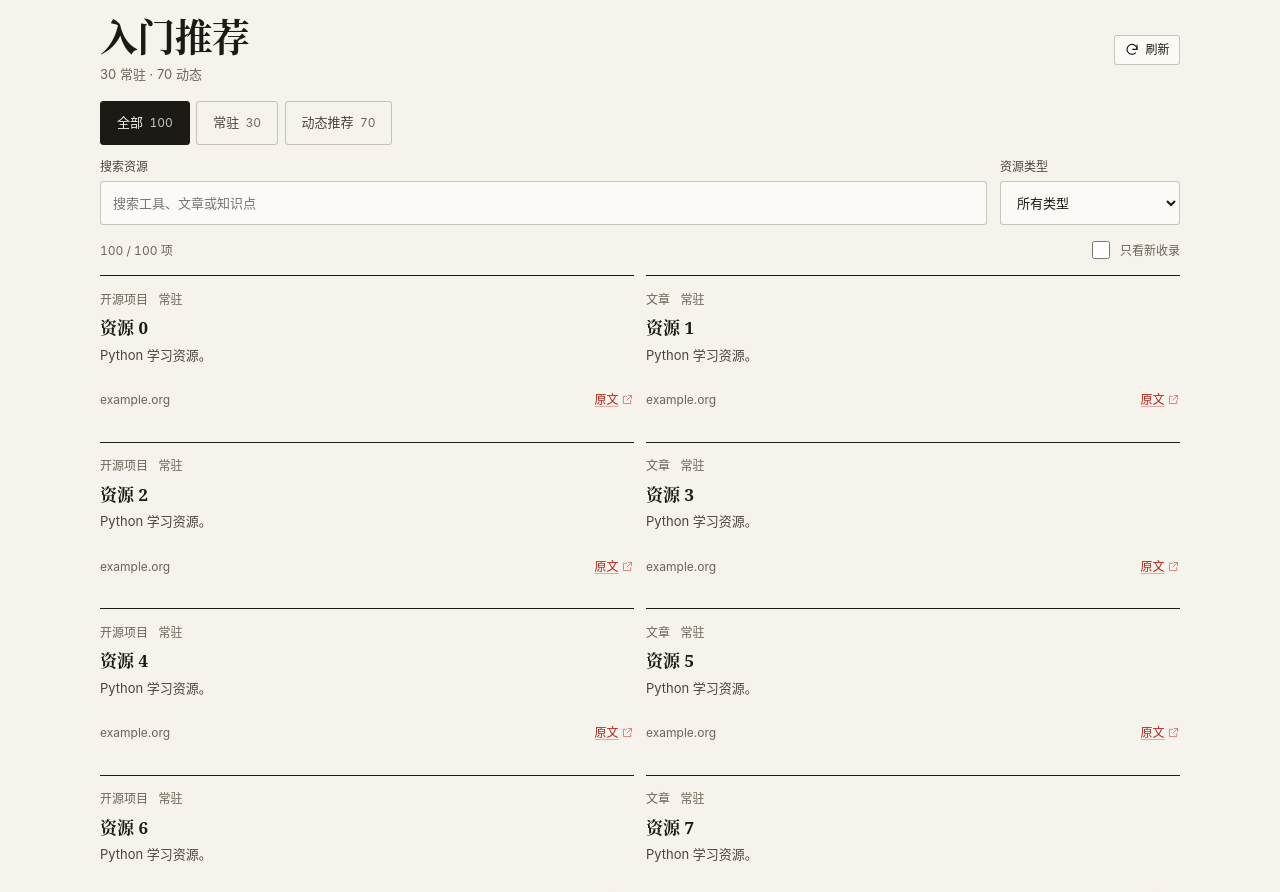
shares combined scope, type and search filters while preserving actual catalogue counts
Expected: the text with class "learn__counts" reads "30 常驻 · 70 动态", [100,66,202,82]
Click the button "动态推荐 70" at [338, 123], box [284,101,392,145]
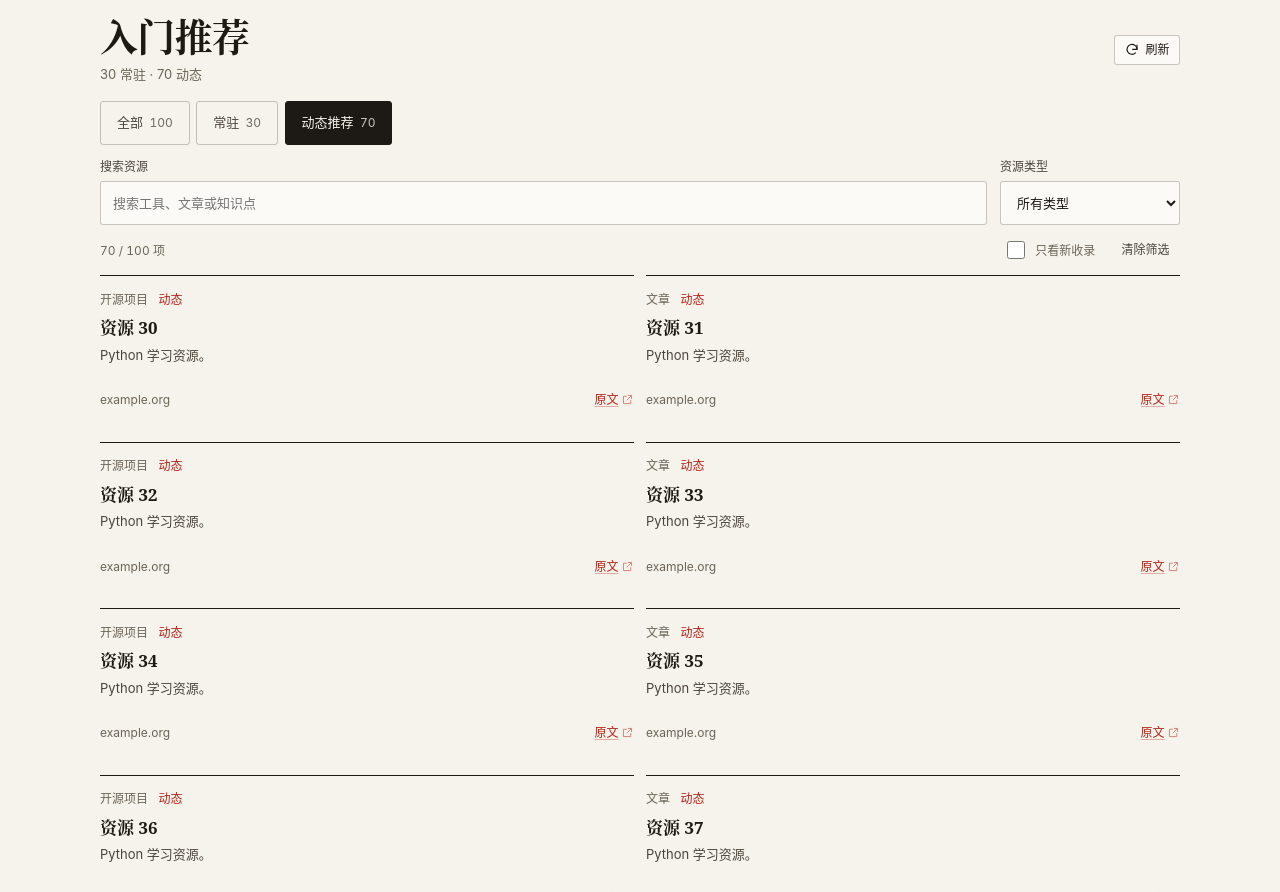
Expected: the number of list items with class "learn-card" is 70
Select "开源项目" in the dropdown labelled "资源类型" at [1090, 204], box [1000,182,1180,226]
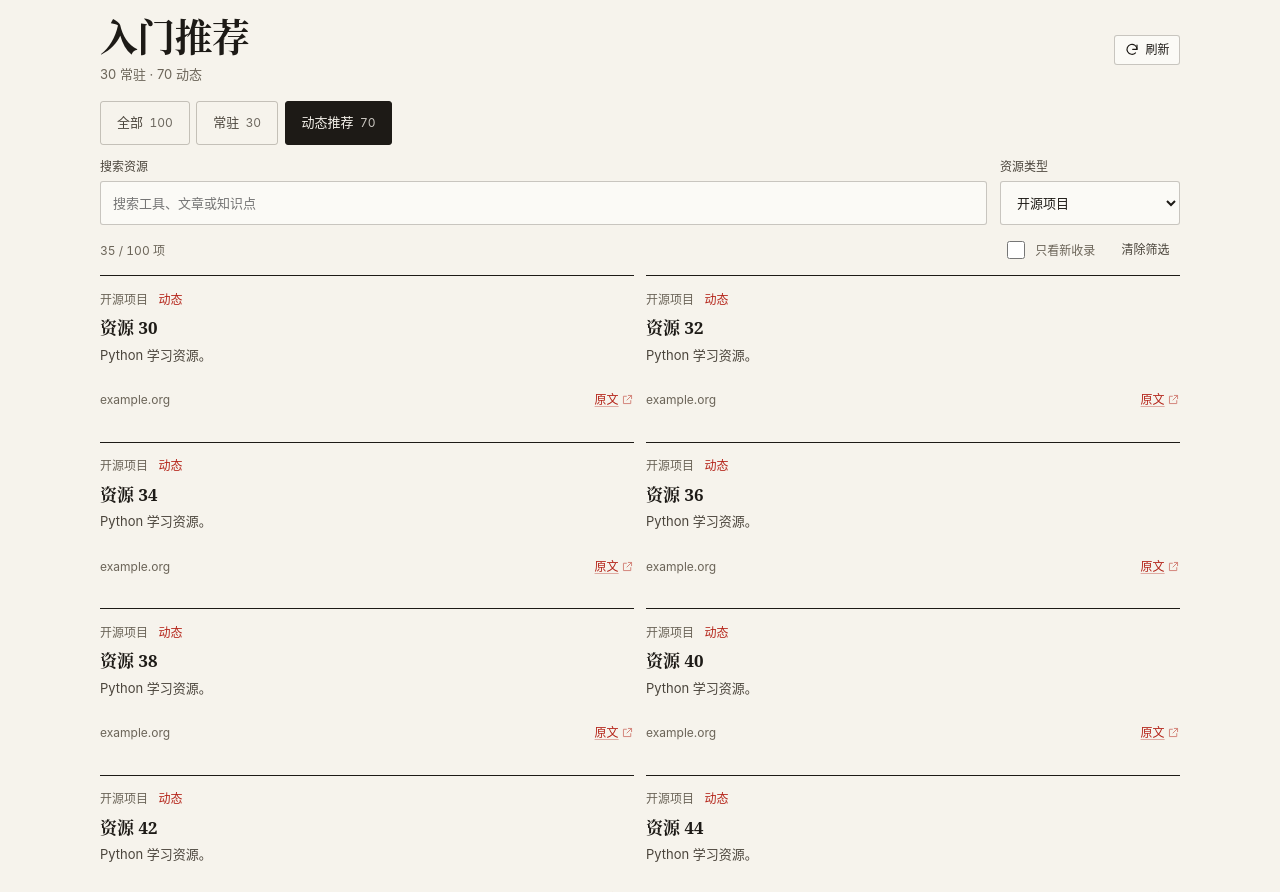
Type "Python" into the search field labelled "搜索资源" at [544, 204], box [100,182,987,226]
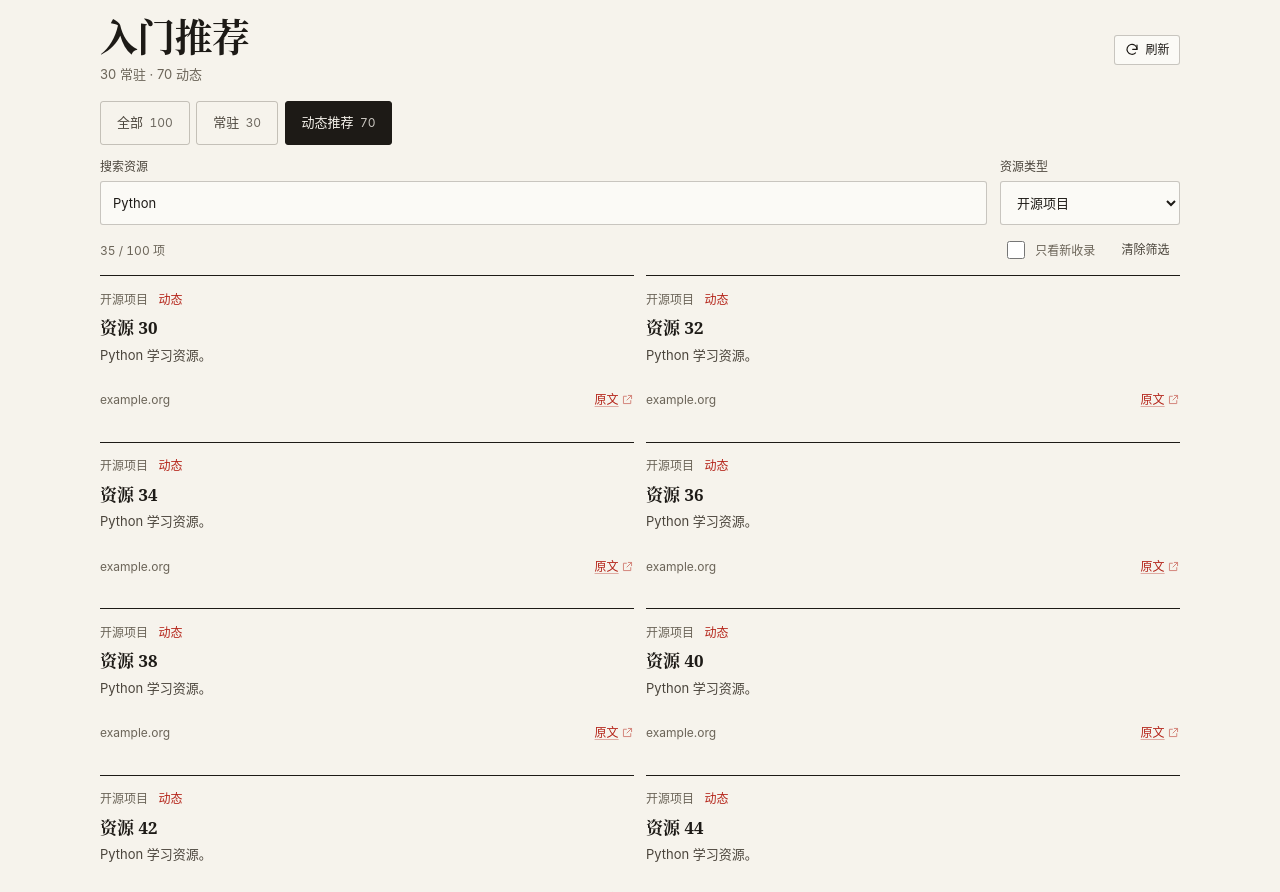
Expected: the text with class "learn__counts" reads "30 常驻 · 70 动态", [100,66,202,82]
Expected: the number of list items with class "learn-card" is 35
Expected: the text "35 / 100 项" is shown, [100,241,165,260]
Click the button "清除筛选" at [1146, 250], box [1111,236,1180,266]
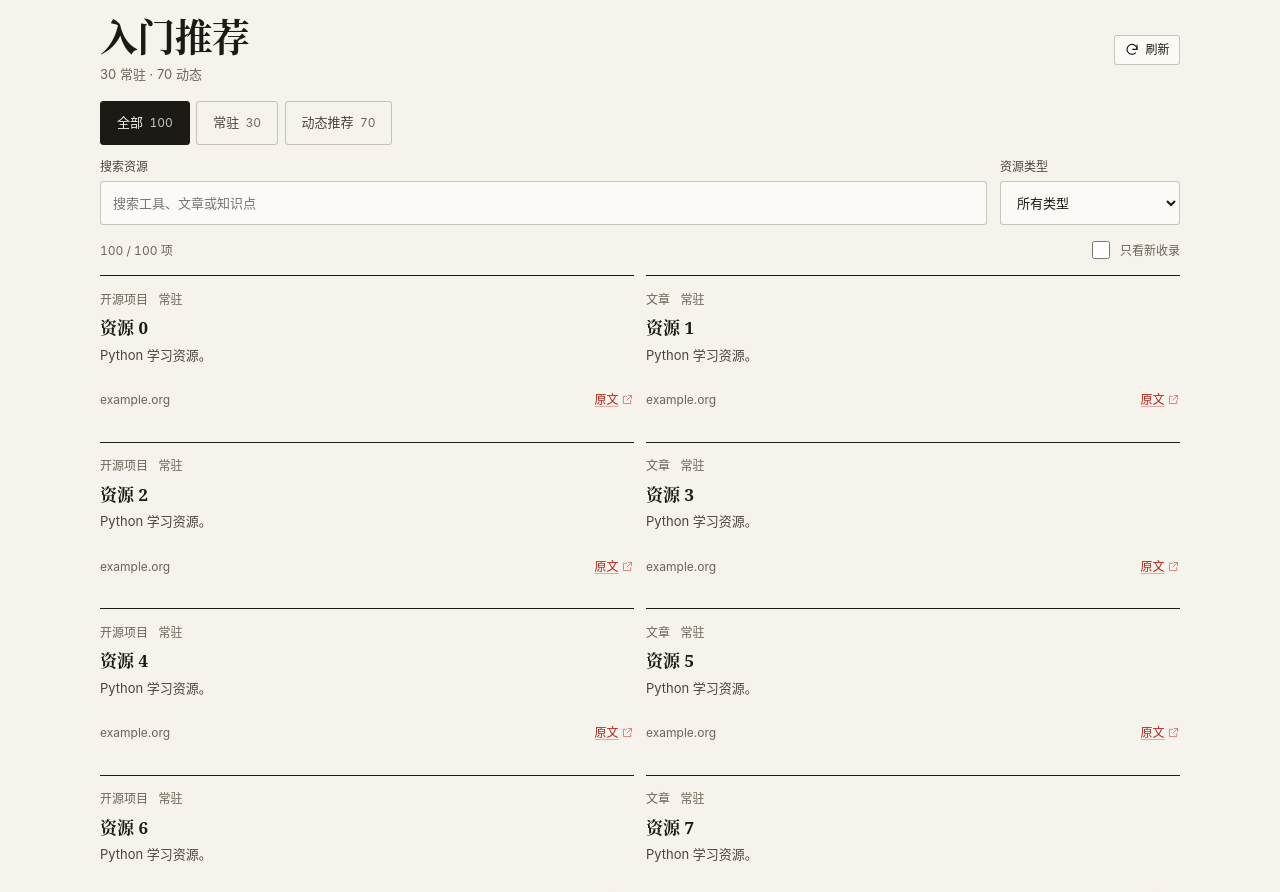
Expected: the number of list items with class "learn-card" is 100
